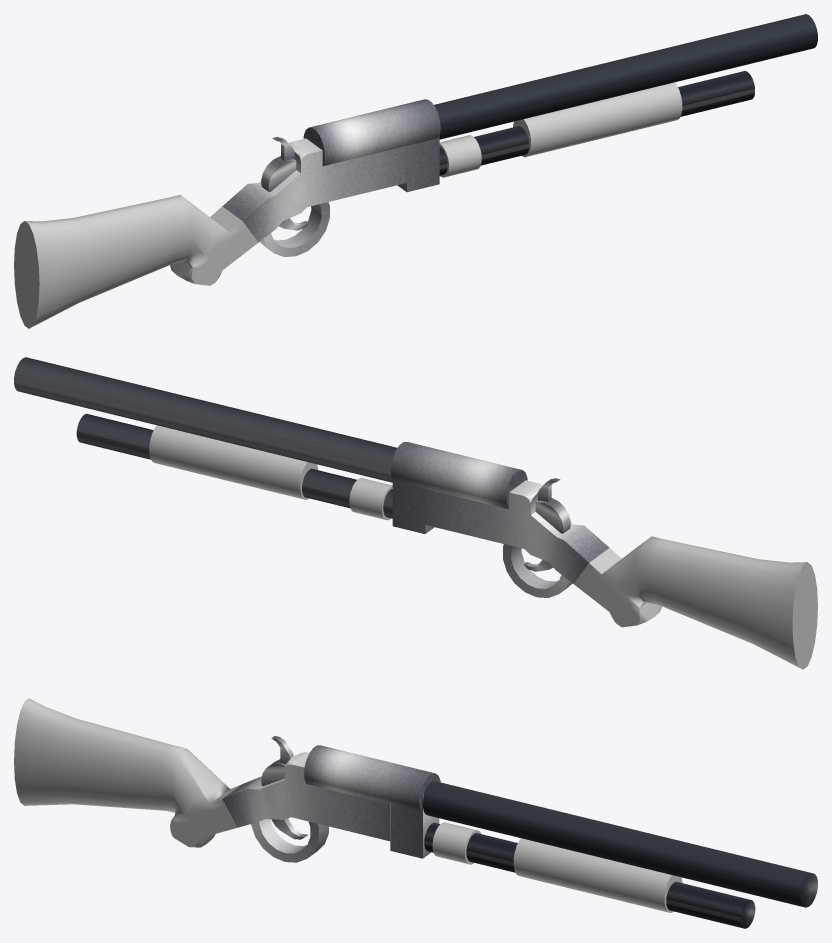
File: Shotgun.fbx
3 renders of one model, top to bottom at view 1: azimuth 30°, elevation 25°; view 2: azimuth 150°, elevation 25°; view 3: azimuth 330°, elevation 25°, orthographic.
Parts seen in each view (by area): view 1: Object001, Cylinder001, Cylinder007, Cylinder003, Cylinder006, Cylinder002, Tube001, Cylinder005, Cylinder008; view 2: Object001, Cylinder001, Cylinder007, Cylinder003, Cylinder006, Cylinder002, Tube001, Cylinder005, Cylinder008; view 3: Object001, Cylinder001, Cylinder007, Cylinder003, Cylinder006, Cylinder002, Tube001, Cylinder005, Cylinder008.
Boxes of the visible parts, x1=… form: Object001: x1=14, y1=195, x2=258, y2=328; Cylinder001: x1=434, y1=14, x2=817, y2=139; Cylinder007: x1=222, y1=136, x2=439, y2=242; Cylinder003: x1=513, y1=82, x2=682, y2=157; Cylinder006: x1=303, y1=99, x2=440, y2=166; Cylinder002: x1=439, y1=71, x2=754, y2=175; Tube001: x1=260, y1=202, x2=329, y2=256; Cylinder005: x1=439, y1=135, x2=481, y2=177; Cylinder008: x1=261, y1=156, x2=296, y2=191; Object001: x1=574, y1=536, x2=817, y2=669; Cylinder001: x1=14, y1=357, x2=397, y2=482; Cylinder007: x1=392, y1=480, x2=609, y2=583; Cylinder003: x1=149, y1=425, x2=318, y2=499; Cylinder006: x1=391, y1=442, x2=527, y2=509; Cylinder002: x1=76, y1=413, x2=392, y2=518; Tube001: x1=503, y1=544, x2=572, y2=597; Cylinder005: x1=349, y1=478, x2=392, y2=520; Cylinder008: x1=535, y1=498, x2=570, y2=533; Object001: x1=14, y1=698, x2=241, y2=847; Cylinder001: x1=423, y1=781, x2=817, y2=907; Cylinder007: x1=222, y1=752, x2=439, y2=858; Cylinder003: x1=513, y1=838, x2=682, y2=912; Cylinder006: x1=304, y1=745, x2=440, y2=811; Cylinder002: x1=424, y1=822, x2=755, y2=928; Tube001: x1=251, y1=819, x2=328, y2=862; Cylinder005: x1=432, y1=822, x2=481, y2=864; Cylinder008: x1=261, y1=759, x2=285, y2=786.
Bounding box in the file's own units: 91.94 × 14.33 × 5.2.
